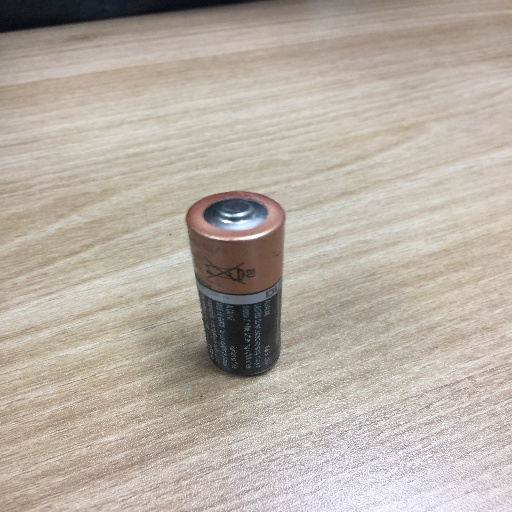Battery_0: (180, 180, 303, 380)
